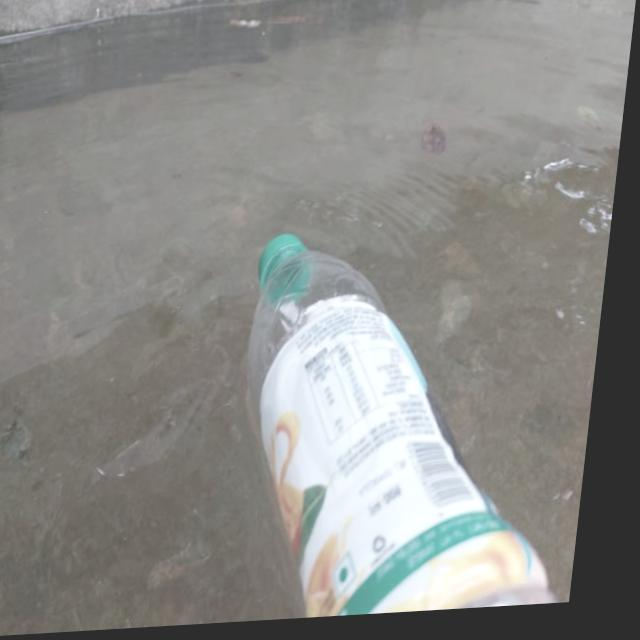leaf: (221, 0, 348, 52), (411, 113, 473, 174), (568, 100, 608, 141)
waterbottle: (185, 189, 621, 629)
